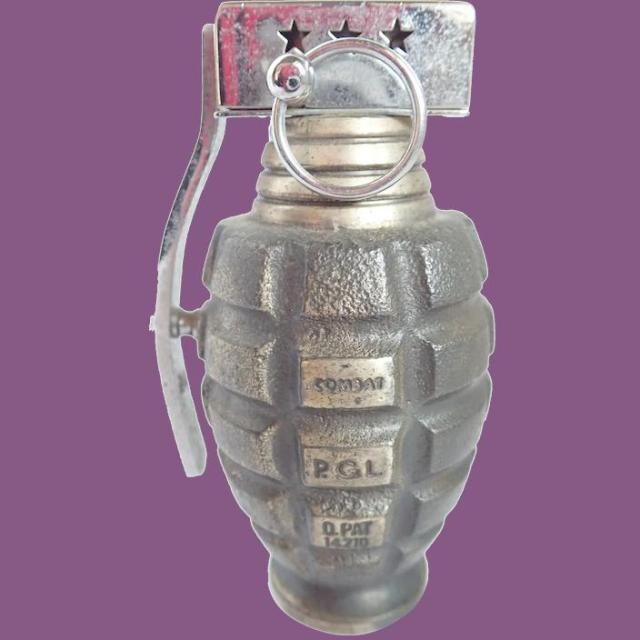grenade: (155, 3, 495, 636)
